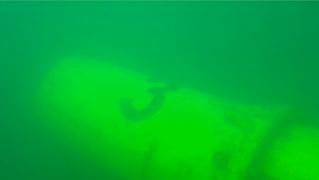3: (120, 77, 181, 122)
pipe: (35, 54, 319, 180)
